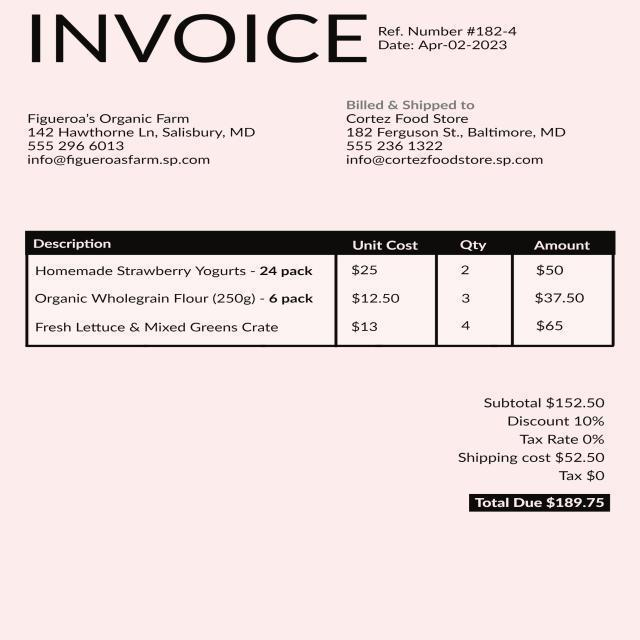ROI: (20, 225, 617, 350), (10, 90, 275, 190), (17, 1, 369, 73), (450, 383, 622, 519), (338, 93, 574, 184), (372, 15, 525, 54)
